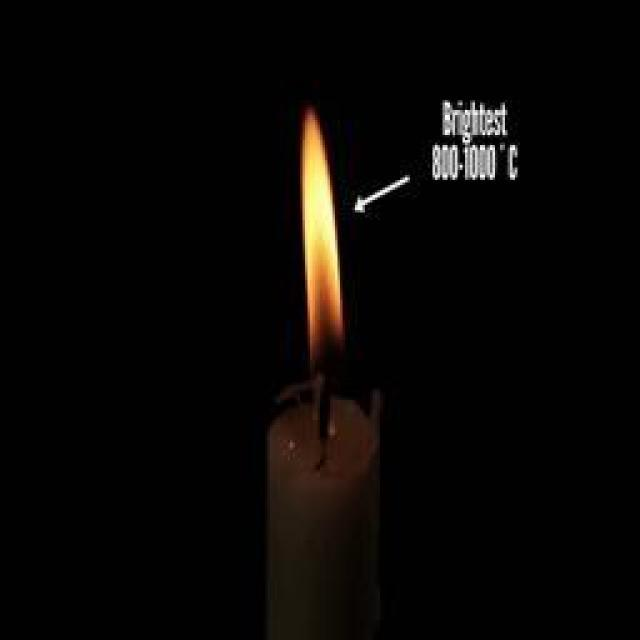Fire: (298, 114, 342, 358)
